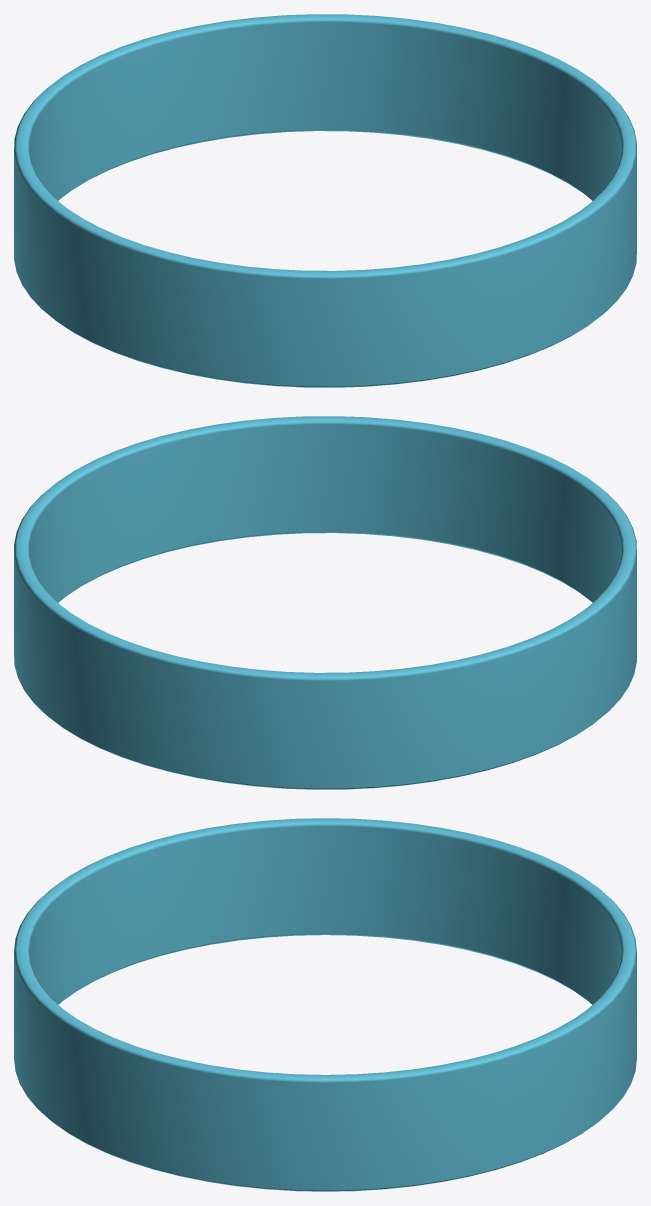
3 views of the same model, one above another, from view 1: azimuth 30°, elevation 25°; view 2: azimuth 150°, elevation 25°; view 3: azimuth 270°, elevation 25° (orthographic).
Visible parts, largest first — view 1: seal_body; view 2: seal_body; view 3: seal_body.
Part boxes in pixels (left/top/right/bottom): seal_body: left=14, top=14, right=636, bottom=387; seal_body: left=14, top=416, right=636, bottom=789; seal_body: left=14, top=818, right=636, bottom=1191.
Size of the model in its own units: 0.127 by 0.0254 by 0.127.
